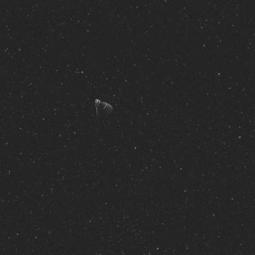debris: (84, 94, 117, 122)
